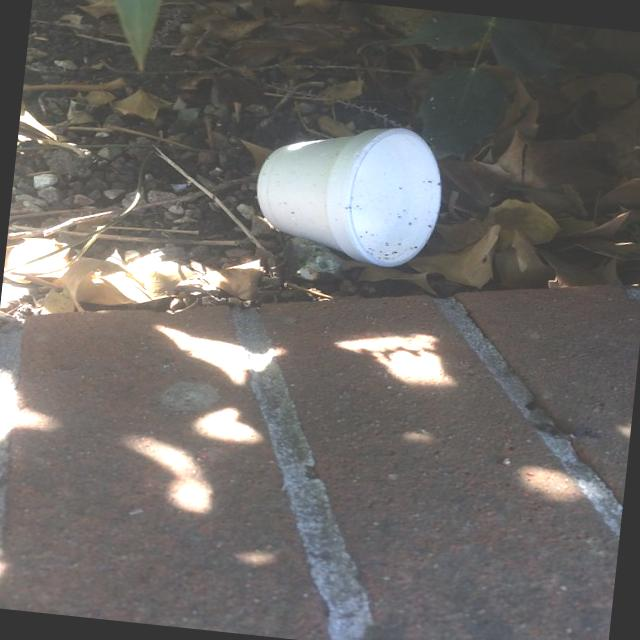Recycle: (250, 113, 450, 271)
